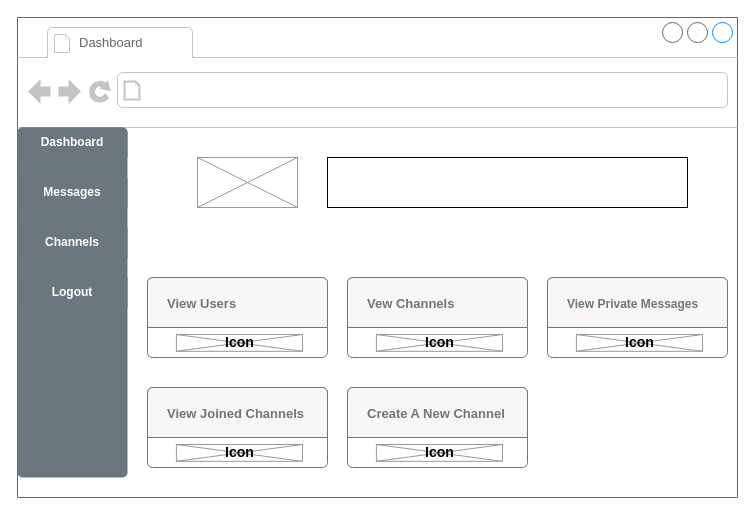
Image size: 755x515. Some labels were removed from this diagram. Here are the shapes that lost their labels. From the top down, the box of each, then its label:
(146, 76, 478, 104): https://www.messenger.blahblah.co.za/Dashboard
(196, 156, 298, 208): Dashboard Icon
(326, 156, 688, 208): Welcome @Username
